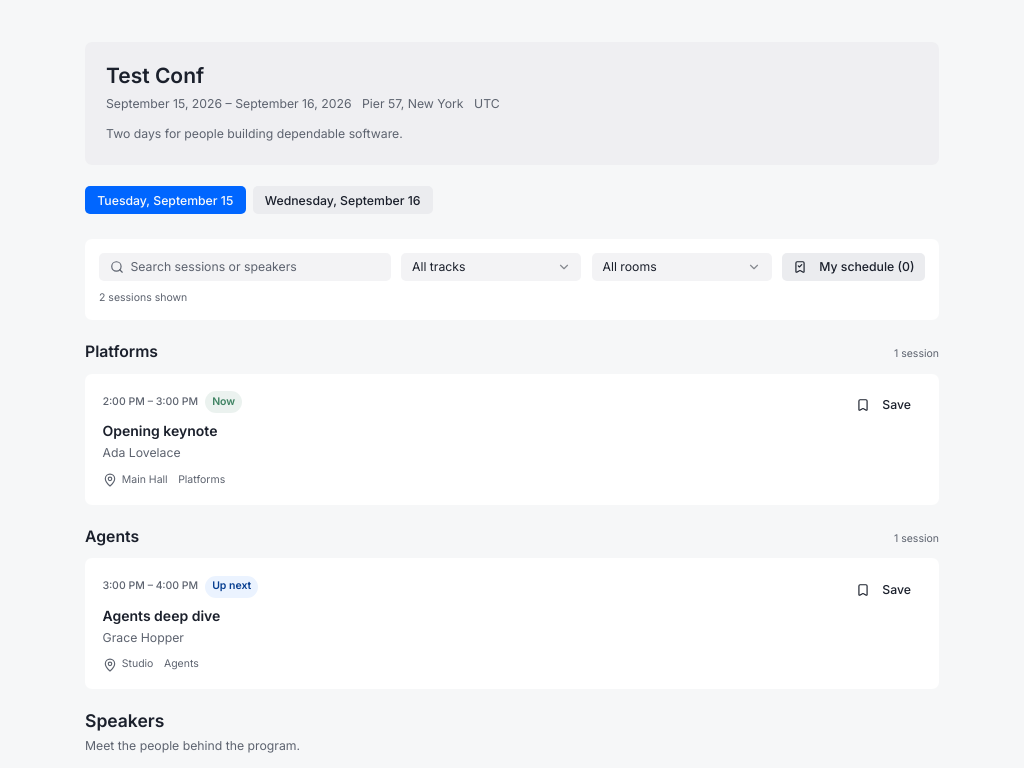
attendee site route › saves a personal schedule in event-scoped localStorage and filters to it
Click the button with aria-label "Save to my schedule": click(884, 405) top-left (846, 391), bottom-right (922, 419)
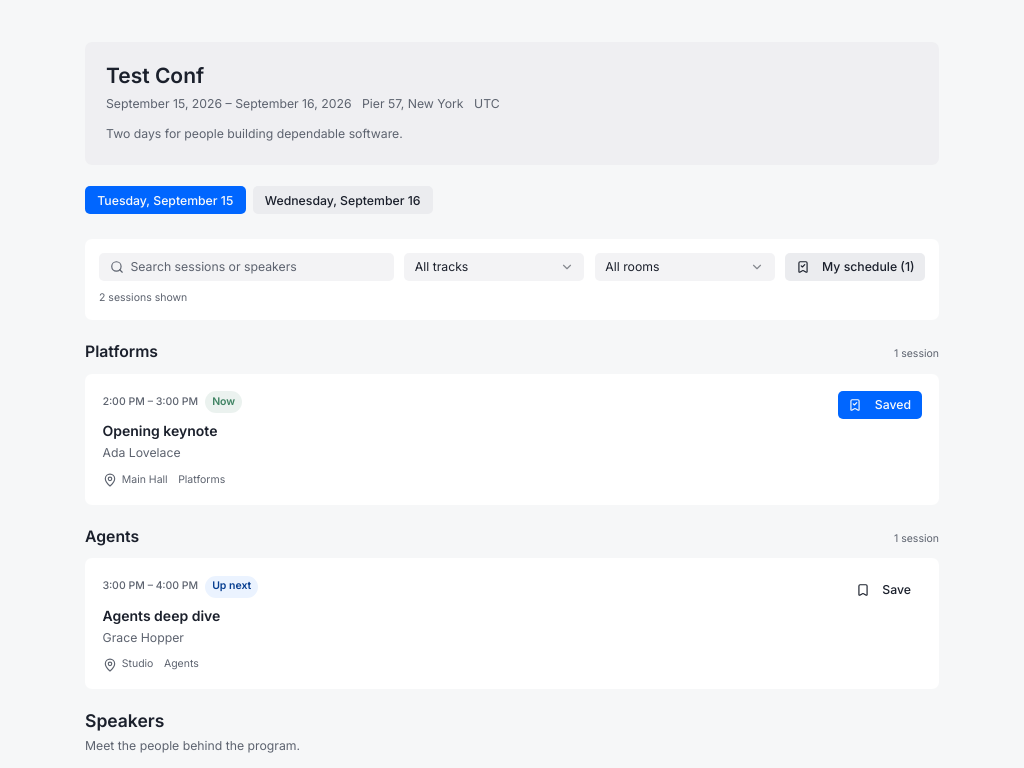
Expected: the text "My schedule (1)" is shown
Click the button "My schedule (1)": click(855, 267) top-left (785, 253), bottom-right (925, 281)
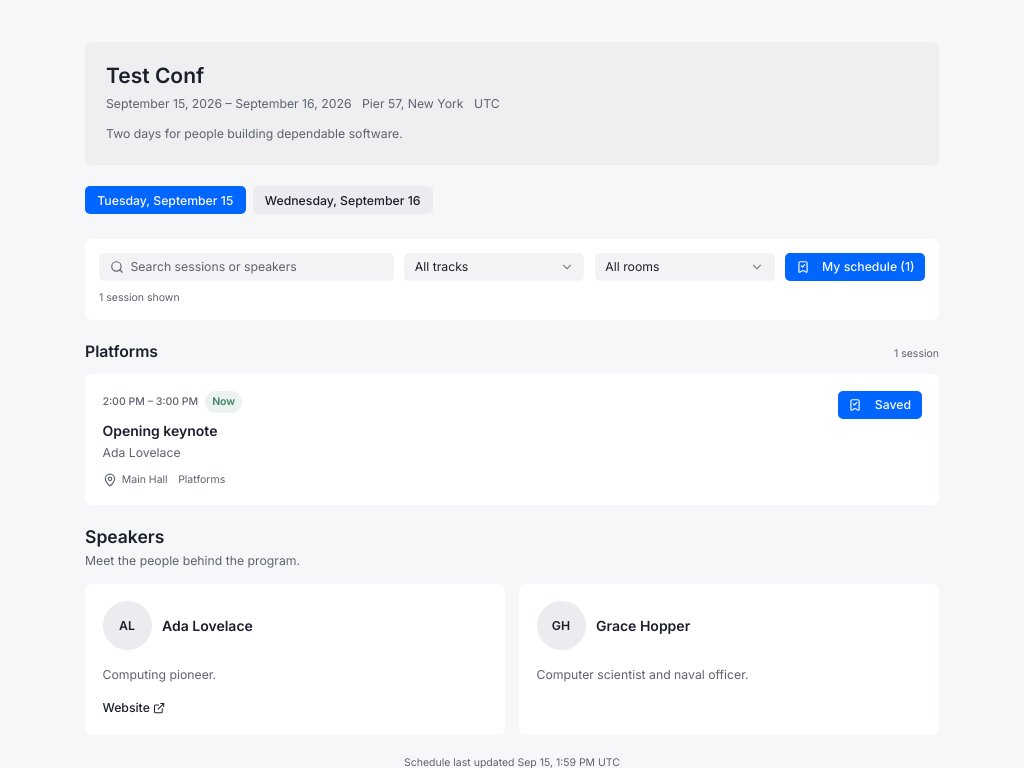
Expected: the text "Opening keynote" is shown, top-left (102, 422), bottom-right (218, 439)
Expected: the text "Agents deep dive" is gone
